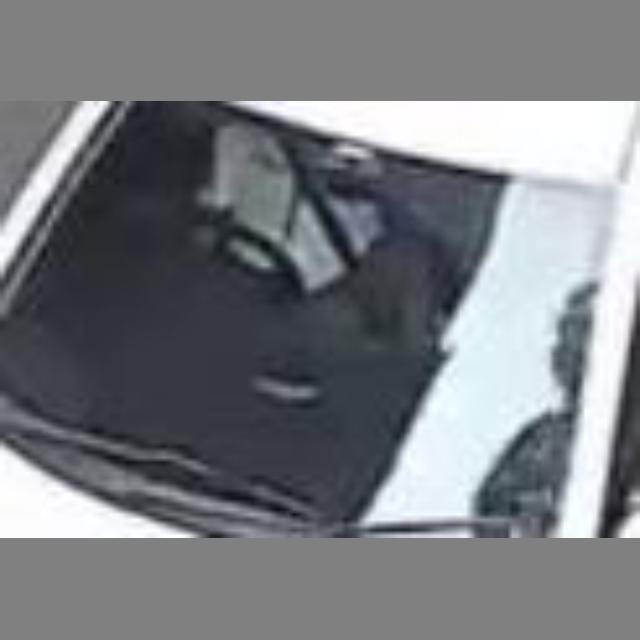pakai: (219, 143, 359, 304)
